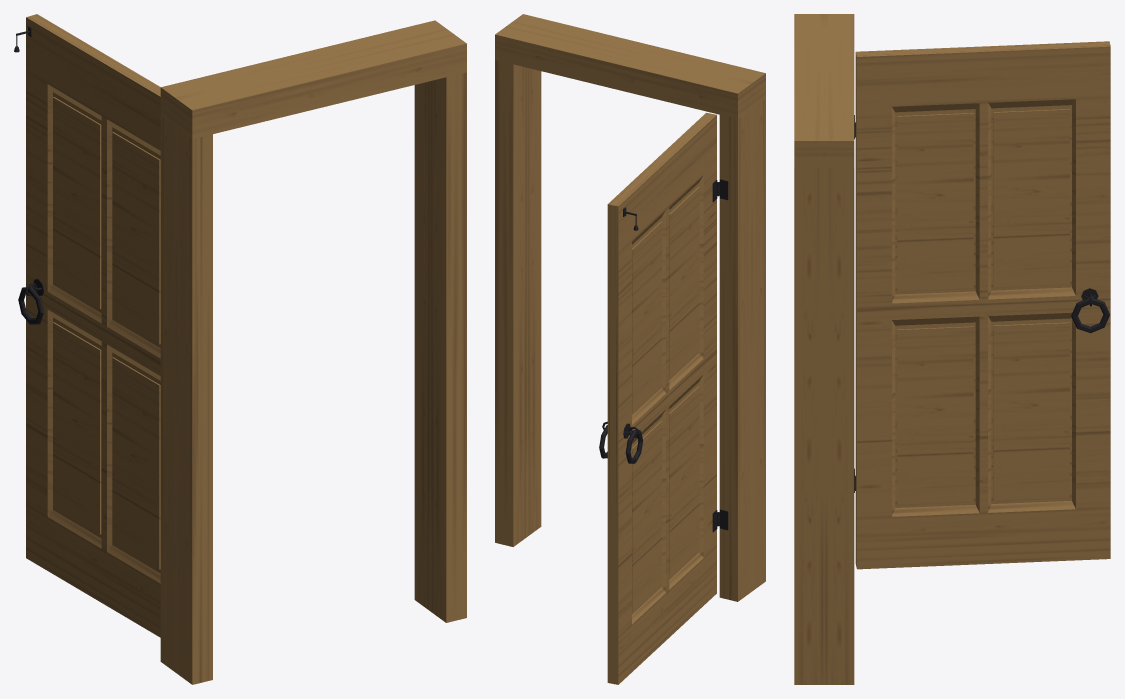
Rendered from Door_Open_Bell.fbx.
The picture shows the model from 3 angles, left to right: view 1: azimuth 30°, elevation 25°; view 2: azimuth 150°, elevation 25°; view 3: azimuth 270°, elevation 25°; orthographic projection. The views are drawn at different scales.
Parts seen in each view (by area): view 1: door_open; view 2: door_open; view 3: door_open.
Part boxes in pixels (x1,y1,x2,y2): door_open: [14, 14, 466, 684]; door_open: [495, 14, 765, 684]; door_open: [794, 14, 1110, 684].
Bounding box in the file's own units: 106 × 200 × 105.
